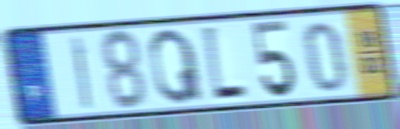0: (300, 19, 352, 94)
5: (249, 18, 297, 100)
8: (100, 27, 150, 114)
I: (69, 34, 94, 112)
L: (199, 23, 250, 106)
Q: (147, 26, 206, 107)
